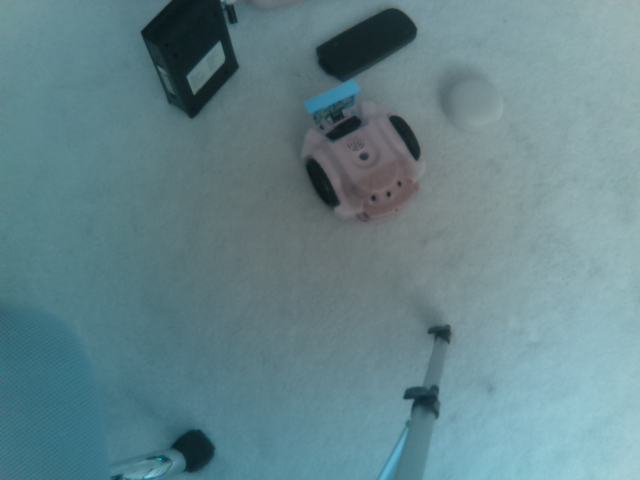board: (300, 73, 362, 126)
chassis: (287, 82, 431, 222)
